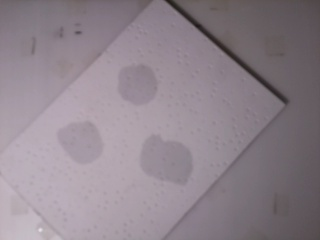Water_detected: (147, 145, 191, 187), (66, 126, 98, 163), (124, 72, 158, 106)
